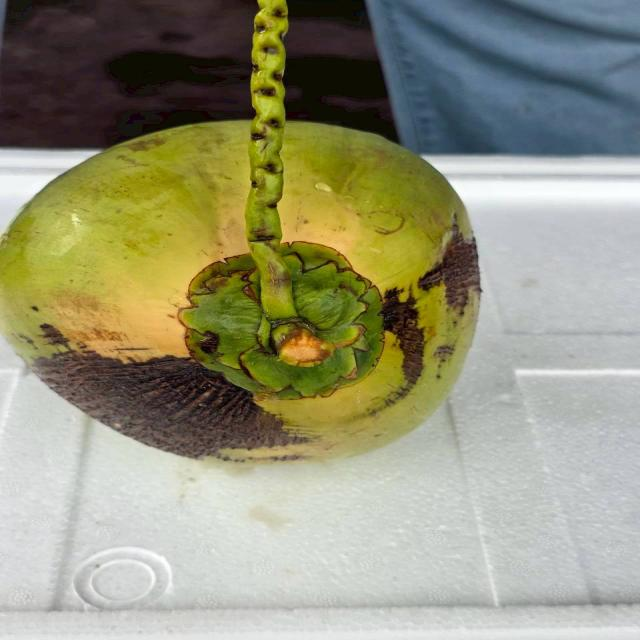coco_1.5: (141, 231, 430, 422)
